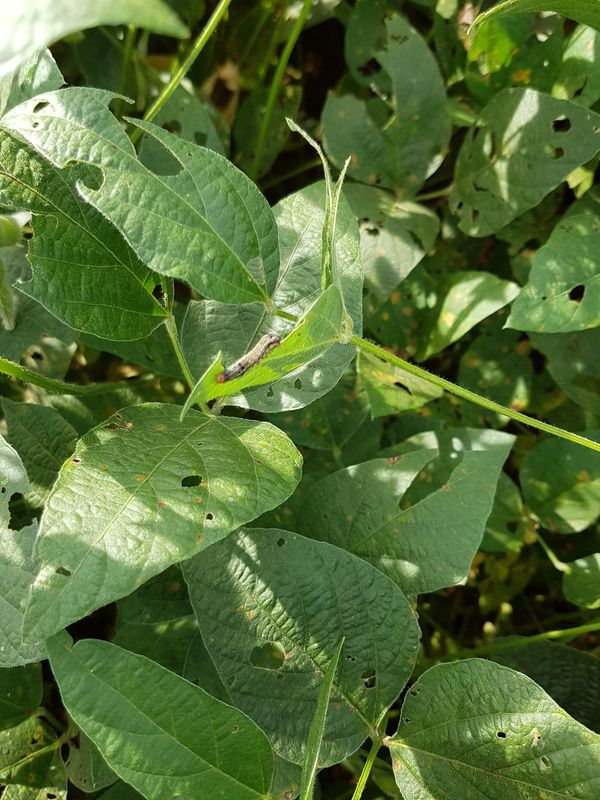Spodoptera_albula: (211, 328, 288, 387)
